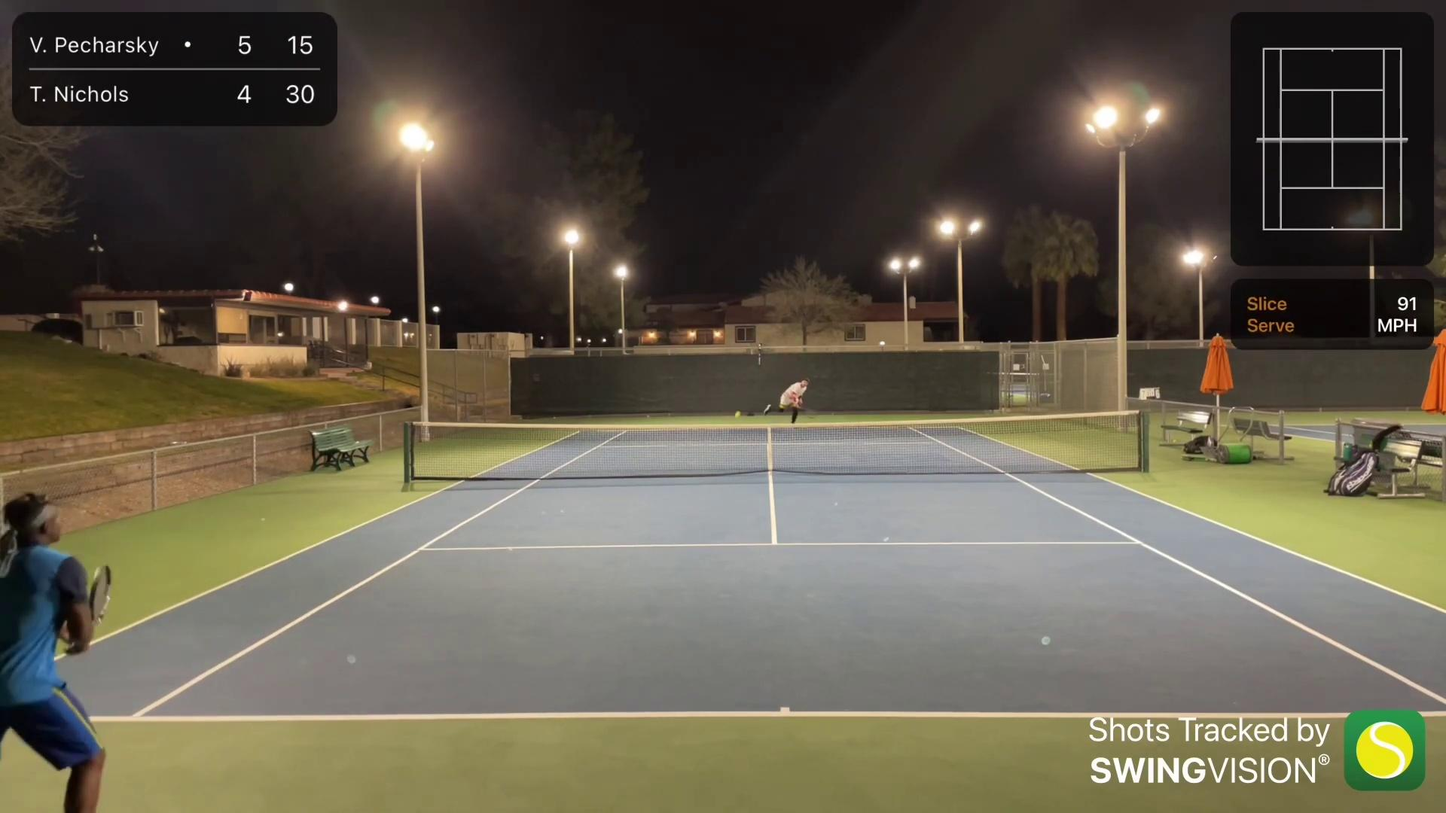ball: (729, 407, 743, 423)
